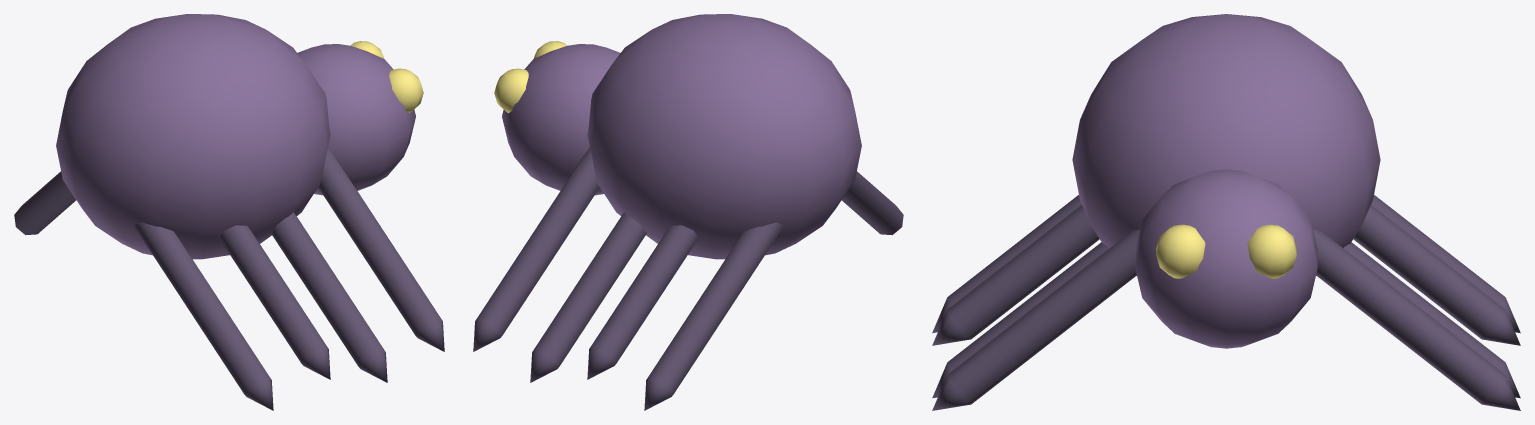
The model's file is spider.glb.
3 views of the same model, side by side, from view 1: azimuth 30°, elevation 25°; view 2: azimuth 150°, elevation 25°; view 3: azimuth 270°, elevation 25° (orthographic). The views are drawn at different scales.
Parts seen in each view (by area): view 1: Abdomen, Head, LegLeft3, LegLeft0, LegLeft1, LegLeft2, LegRight3, EyeLeft; view 2: Abdomen, Head, LegRight3, LegRight0, LegRight1, LegRight2, LegLeft3, EyeRight; view 3: Abdomen, Head, LegLeft0, LegRight0, LegLeft2, LegRight2, LegLeft1, LegRight1, EyeLeft, EyeRight, LegLeft3, LegRight3.
Part boxes in pixels (<box>): Abdomen: <box>56,14,330,259</box>; Head: <box>297,44,415,195</box>; LegLeft3: <box>133,222,273,410</box>; LegLeft0: <box>318,147,444,351</box>; LegLeft1: <box>271,212,387,382</box>; LegLeft2: <box>219,225,330,379</box>; LegRight3: <box>14,171,76,235</box>; EyeLeft: <box>389,68,423,113</box>; Abdomen: <box>587,14,861,259</box>; Head: <box>502,44,620,195</box>; LegRight3: <box>644,222,784,410</box>; LegRight0: <box>473,147,599,351</box>; LegRight1: <box>530,212,646,382</box>; LegRight2: <box>587,225,698,379</box>; LegLeft3: <box>841,171,903,235</box>; EyeRight: <box>494,68,528,113</box>; Abdomen: <box>1072,14,1380,275</box>; Head: <box>1135,169,1317,348</box>; LegLeft0: <box>932,229,1139,410</box>; LegRight0: <box>1313,229,1520,410</box>; LegLeft2: <box>932,205,1099,345</box>; LegRight2: <box>1353,205,1520,345</box>; LegLeft1: <box>932,242,1109,398</box>; LegRight1: <box>1343,242,1520,398</box>; EyeLeft: <box>1156,224,1205,278</box>; EyeRight: <box>1247,224,1296,278</box>; LegLeft3: <box>932,195,1081,333</box>; LegRight3: <box>1371,195,1520,333</box>.
Size of the model in its own units: 0.82 by 0.6607 by 1.07.
